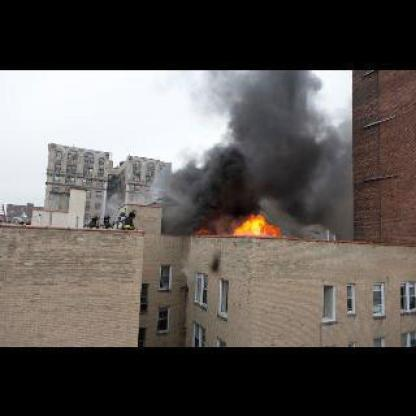fire: (229, 209, 285, 239)
